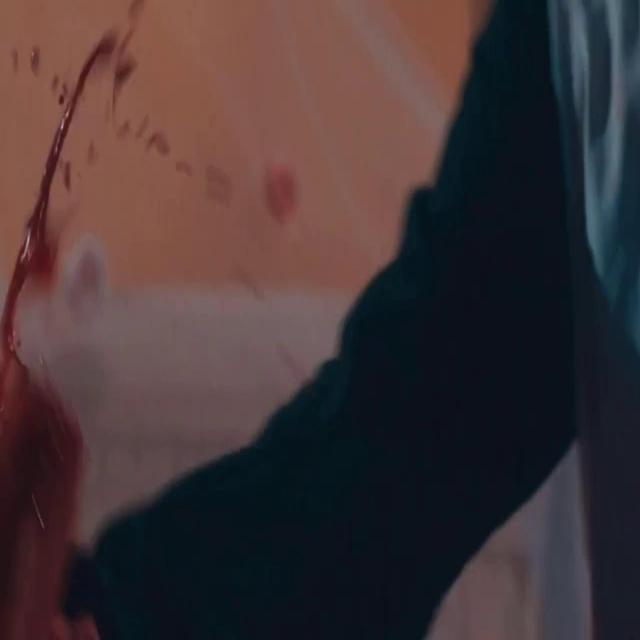flood: (0, 30, 104, 545)
